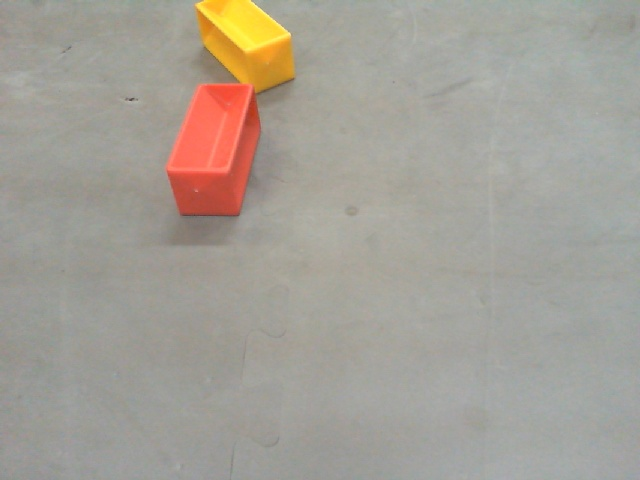RedSample: (163, 78, 262, 223)
YellowSample: (194, 1, 296, 95)
